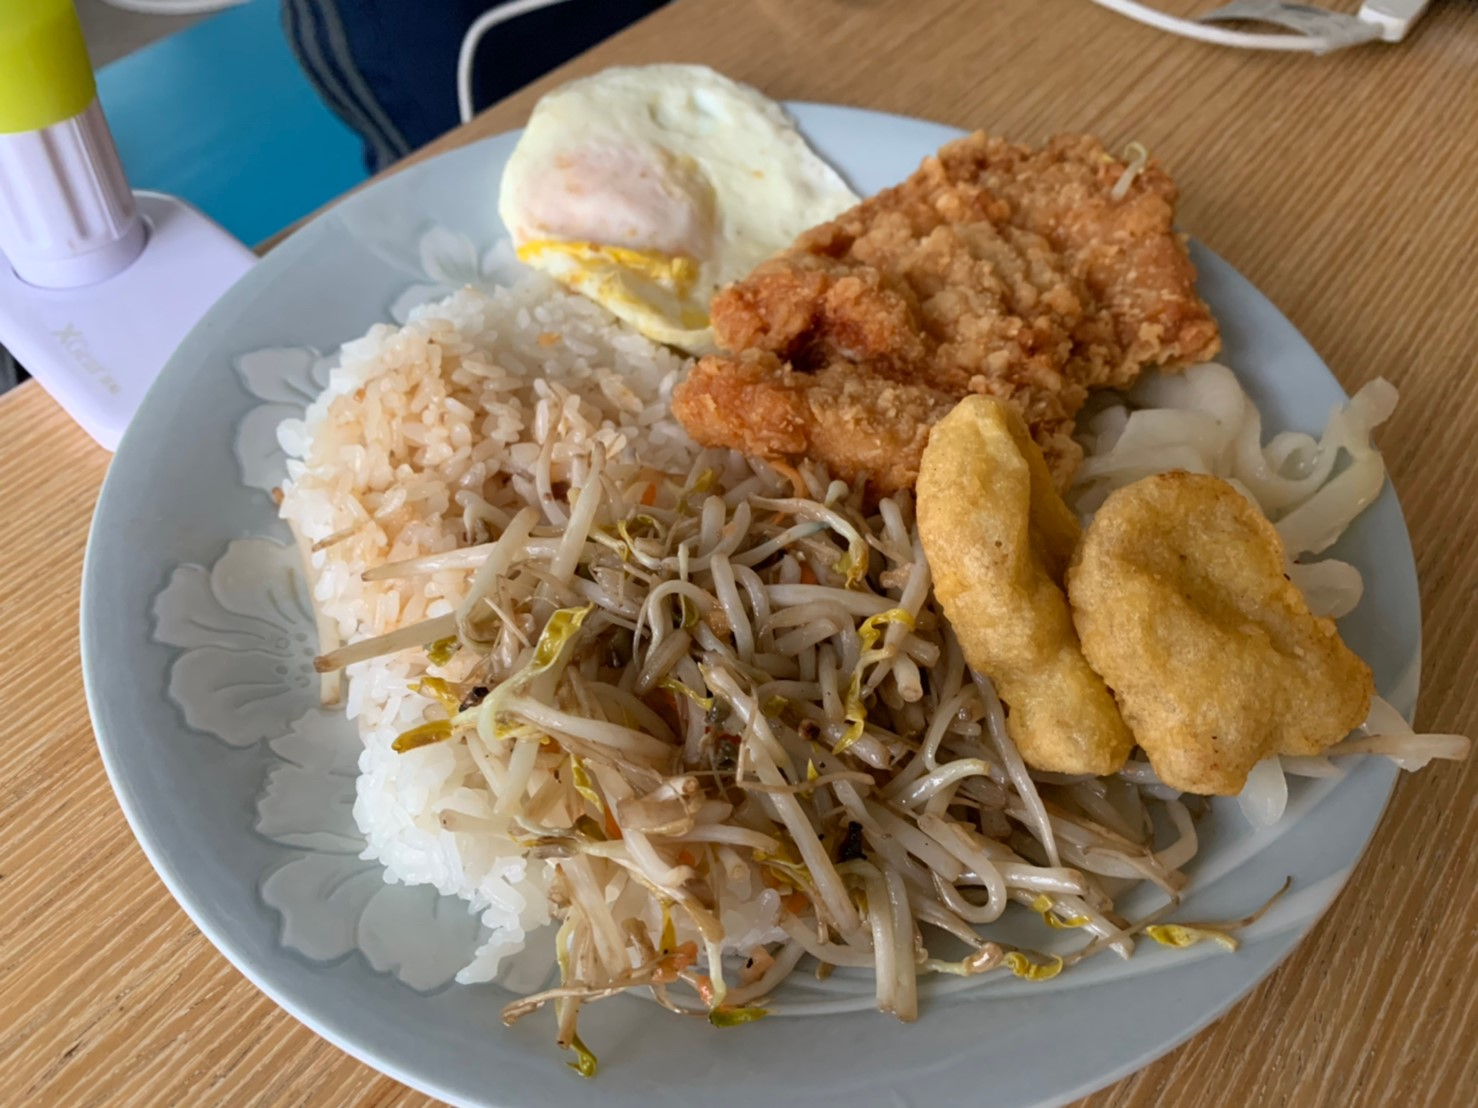chicken_nuggets: (924, 404, 1355, 790)
fried_chicken: (711, 142, 1194, 468)
fried_eggs: (495, 59, 809, 320)
mung_bean_sprouts: (498, 488, 921, 990)
rice: (331, 308, 665, 530)
